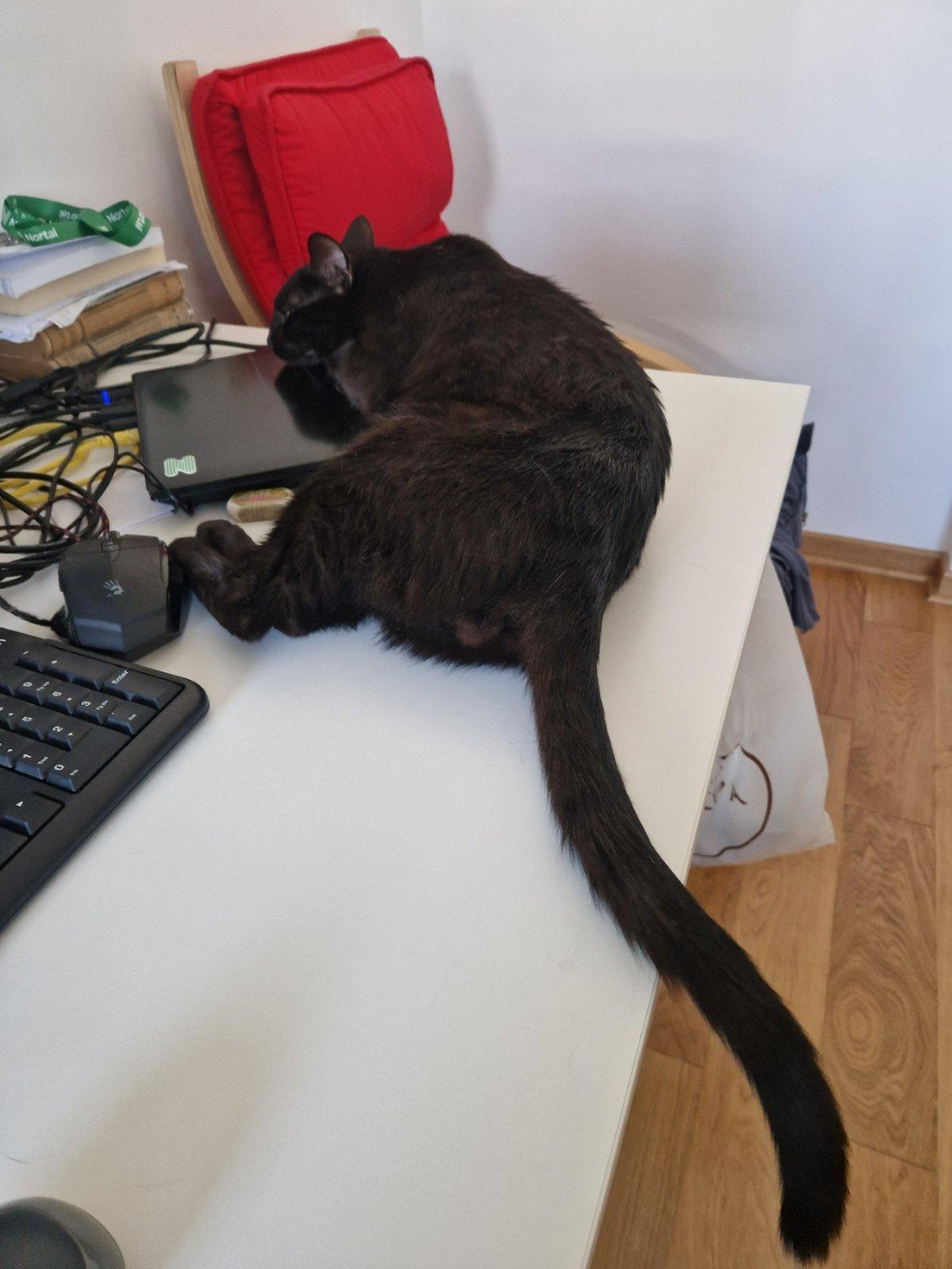macka: (201, 210, 850, 1265)
